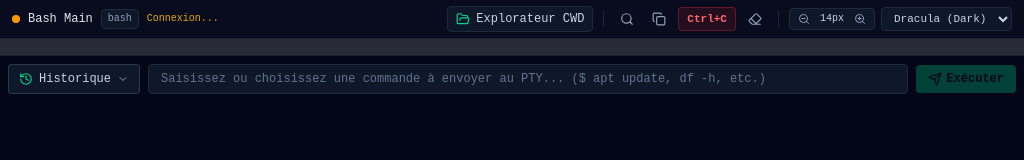
TerminalView Component › toggles the search bar
Click the button titled "Rechercher dans le terminal" at (627, 19), box [614,6,640,32]
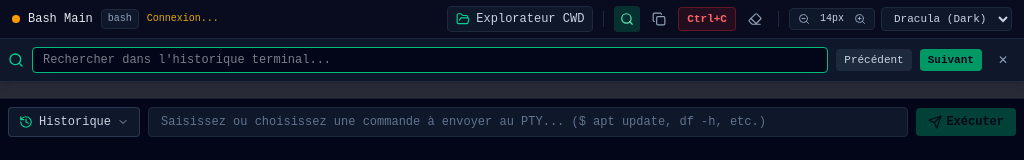
Now the field with placeholder "Rechercher dans l'historique terminal..." is shown, box [32,47,828,73]
